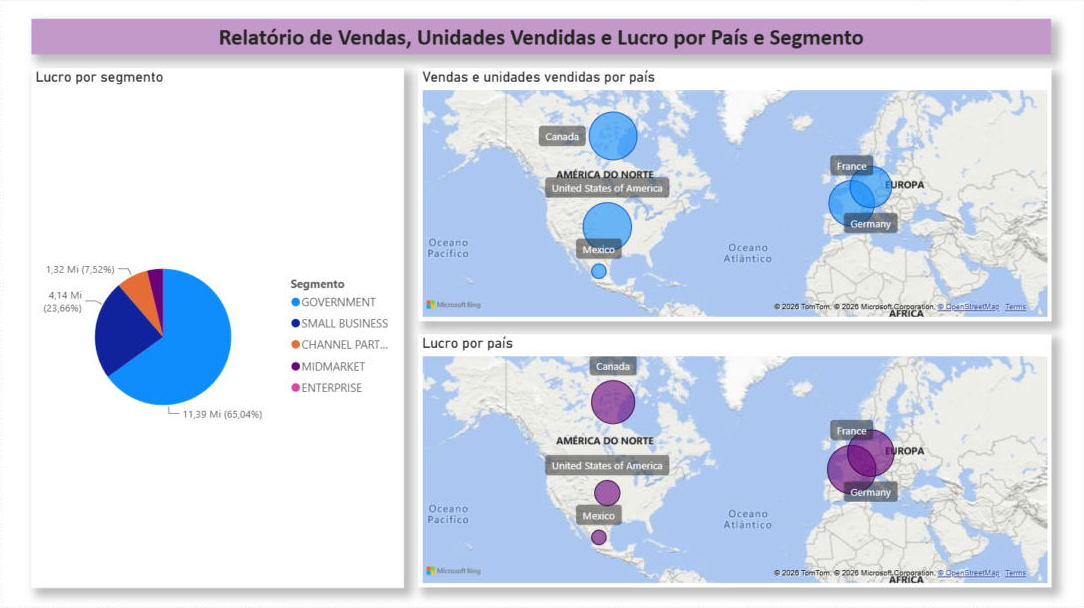

The page's visual inventory and layout, read from the dashboard file:
{"tool":"powerbi","page":{"name":"Página 3","canvas":[1280,720],"ordinal":2},"visuals":[{"type":"textbox","box":[38,24,1204,42],"z":0},{"type":"pieChart","title":"Lucro por segmento","fields":{"Category":["financials.Segment"],"Y":["Sum(financials.Profit)"]},"box":[38,82,440,614],"z":1000},{"type":"map","title":"Vendas e unidades vendidas por país","fields":{"Category":["financials.Country"],"Size":["Sum(financials. Sales)"]},"box":[494,82,748,299],"z":2000},{"type":"map","title":"Lucro por país","fields":{"Category":["financials.Country"],"Size":["Sum(financials.Profit)"]},"box":[494,397,748,299],"z":3000}]}

Visuals, with their boxes in screenshot pixels (x1, y1, x2, y2), scaled from the page's 1280x720 canvas onto the 1084x608 screenshot:
textbox: 32,20,1052,56
"Lucro por segmento" pieChart: 32,69,405,588
"Vendas e unidades vendidas por país" map: 418,69,1052,322
"Lucro por país" map: 418,335,1052,588
